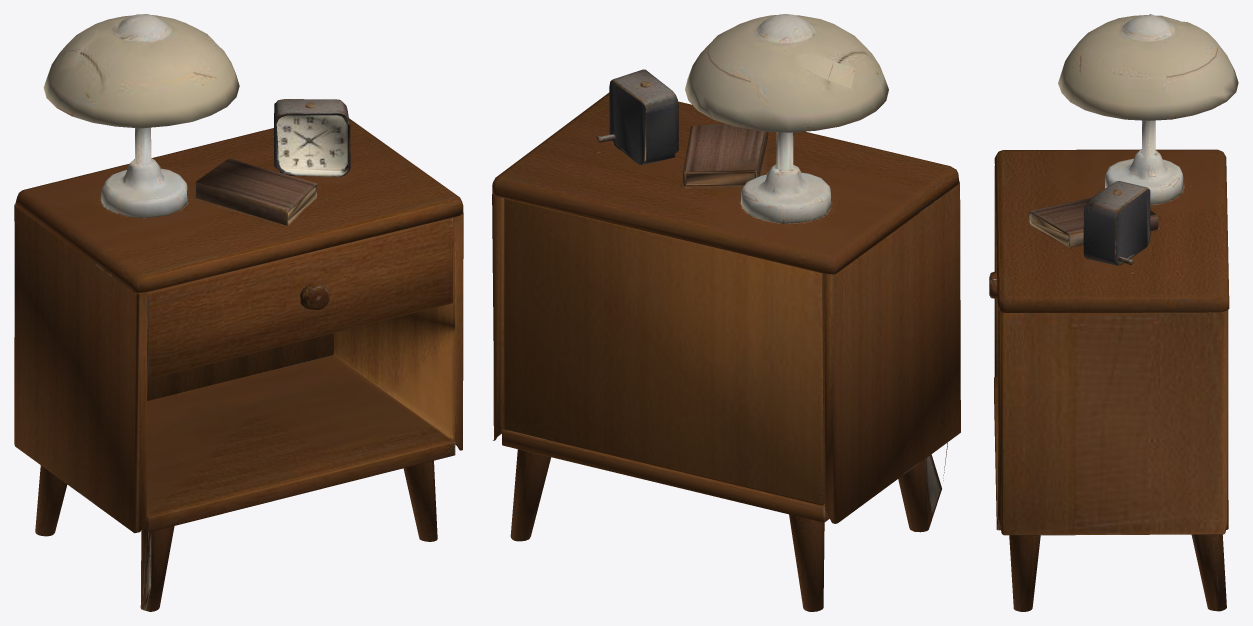
File: bedside__1.glb
3 renders of one model, left to right at view 1: azimuth 30°, elevation 25°; view 2: azimuth 150°, elevation 25°; view 3: azimuth 270°, elevation 25°, orthographic. The views are drawn at different scales.
Visible parts, largest first — view 1: Mesh_0.120; view 2: Mesh_0.120; view 3: Mesh_0.120.
Part boxes in pixels (left/top/right/bottom): Mesh_0.120: left=14, top=14, right=463, bottom=611; Mesh_0.120: left=492, top=14, right=960, bottom=611; Mesh_0.120: left=989, top=14, right=1238, bottom=611.
Bounding box in the file's own units: 0.6555 × 0.9886 × 0.4546.
1 material, 1 textured.
